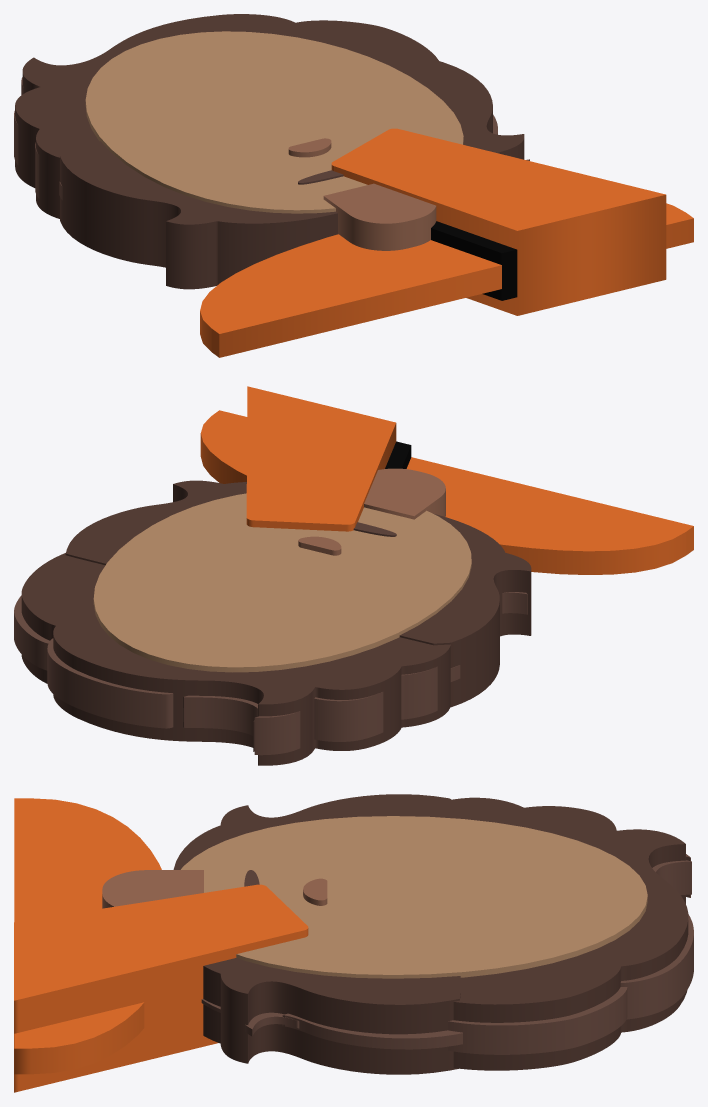
File: emoji_u1f926_1f3fd.glb
The picture shows the model from 3 angles, top to bottom: view 1: azimuth 30°, elevation 25°; view 2: azimuth 150°, elevation 25°; view 3: azimuth 270°, elevation 25°; orthographic projection. The views are drawn at different scales.
Visible parts, largest first — view 1: emoji_u1f926_1f3fd; view 2: emoji_u1f926_1f3fd; view 3: emoji_u1f926_1f3fd.
Boxes of the visible parts, x1=… form: emoji_u1f926_1f3fd: x1=14, y1=14, x2=693, y2=357; emoji_u1f926_1f3fd: x1=14, y1=386, x2=693, y2=765; emoji_u1f926_1f3fd: x1=14, y1=794, x2=693, y2=1092.
Size of the model in its own units: 0.0292 by 0.005 by 0.0335.
